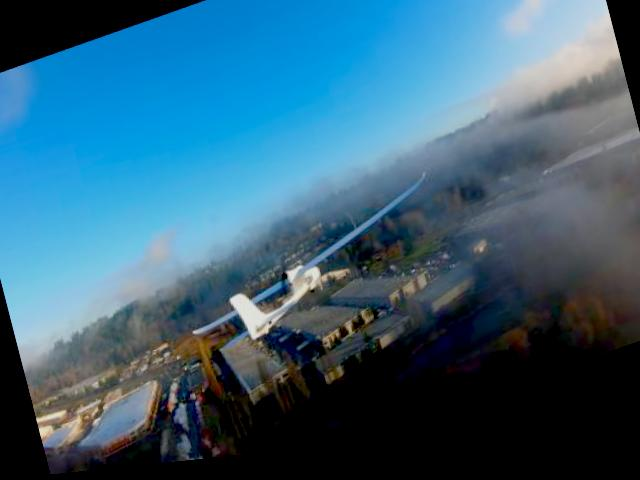uav: (160, 166, 457, 377)
